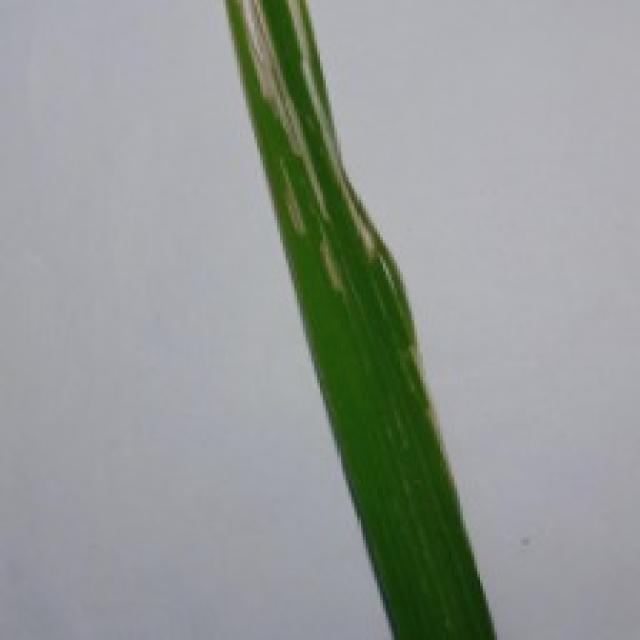Bacterial_Blight: (220, 0, 406, 286)
